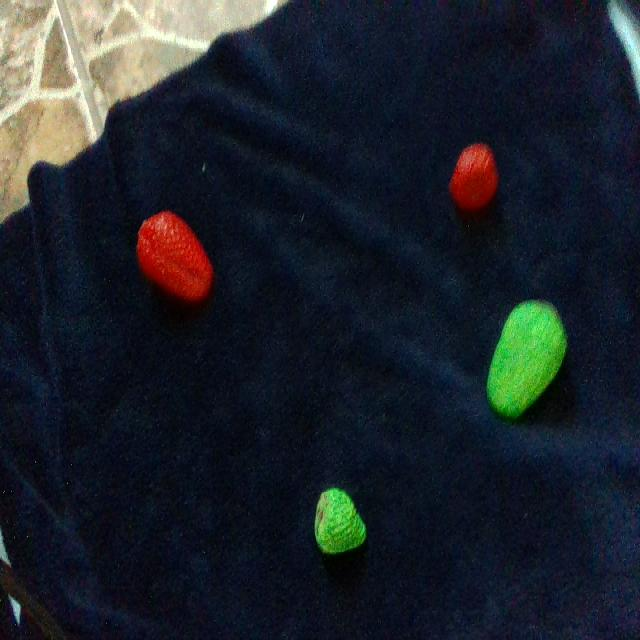chica_roja: (449, 143, 498, 211), (315, 488, 366, 553)
grande_roja: (136, 211, 214, 303)
verde: (487, 300, 566, 417), (315, 488, 366, 553)
